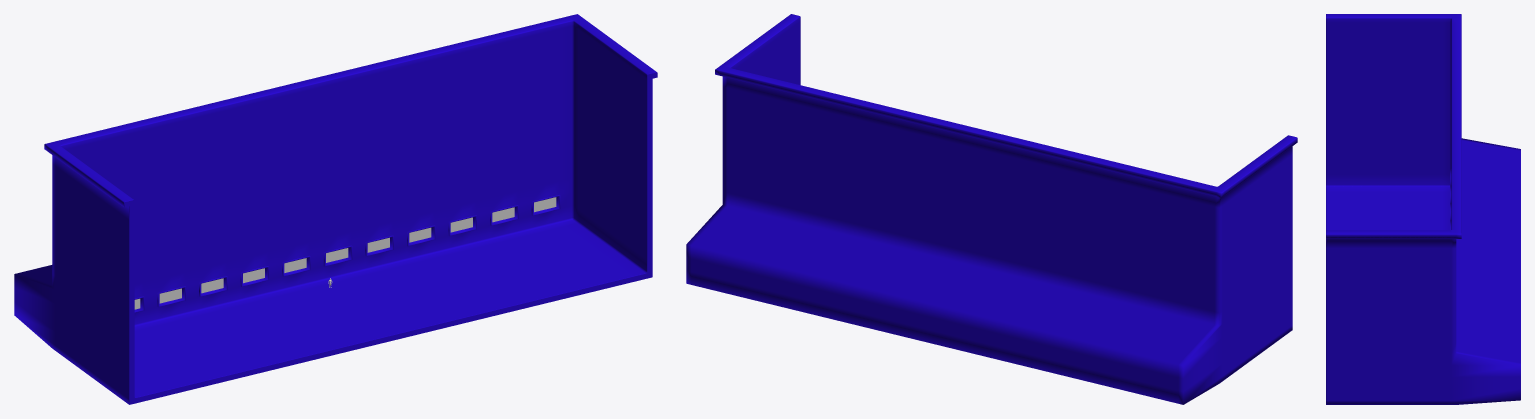
Rendered from PoolBasin.fbx.
The picture shows the model from 3 angles, left to right: view 1: azimuth 30°, elevation 25°; view 2: azimuth 150°, elevation 25°; view 3: azimuth 270°, elevation 25°; orthographic projection. The views are drawn at different scales.
Visible parts, largest first — view 1: Cube; view 2: Cube; view 3: Cube.
Boxes of the visible parts, x1,y1,x2,y2 form: Cube: [14, 14, 657, 404]; Cube: [686, 14, 1297, 404]; Cube: [1326, 14, 1520, 404].
Size of the model in its own units: 10400 by 3800 by 3885.
